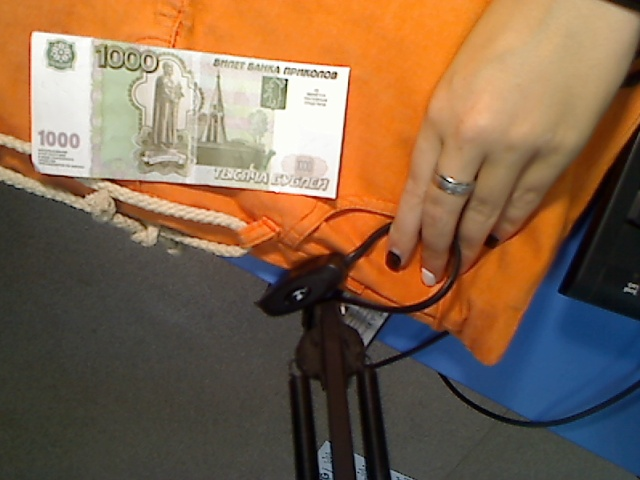banknotes: (28, 28, 354, 202)
